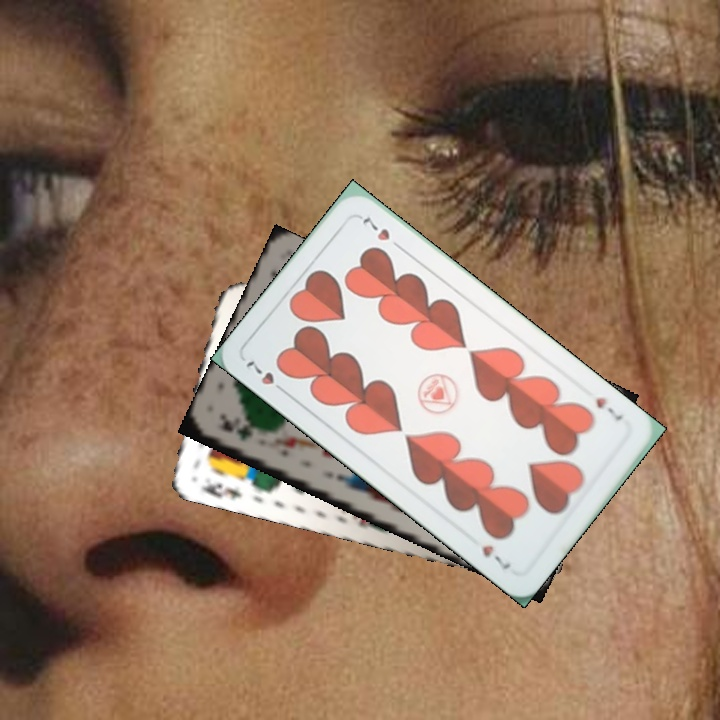EK: (197, 479, 244, 502)
GK: (214, 412, 256, 444)
H7: (241, 356, 291, 398), (591, 392, 626, 424)
